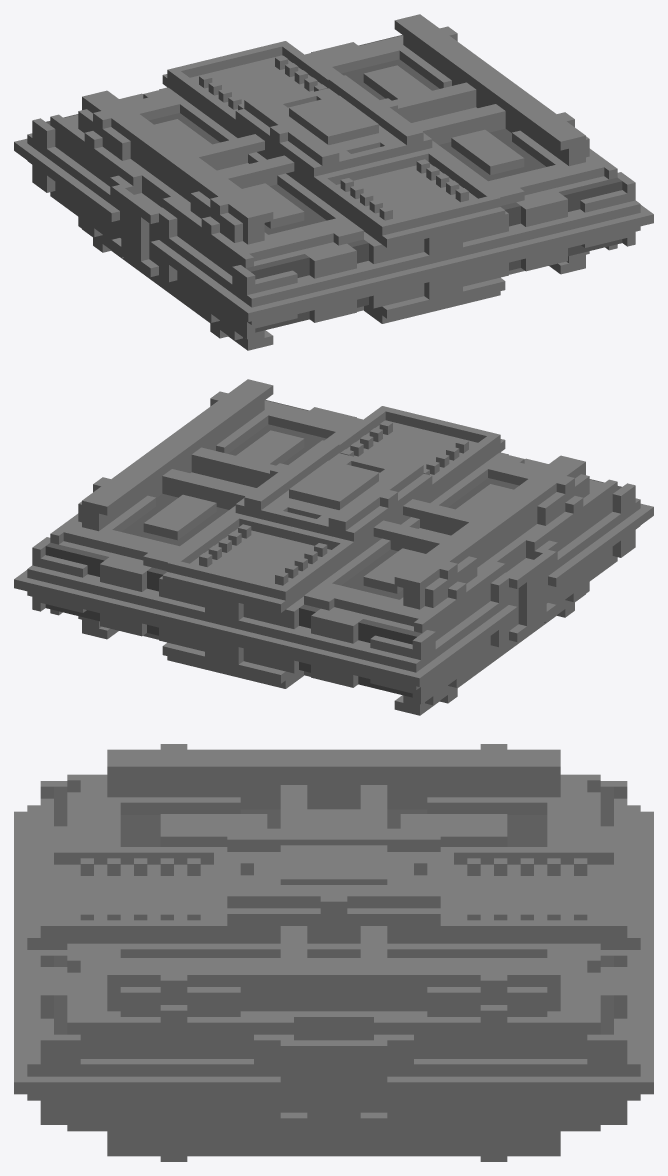
File: alien_saucer3c.obj
3 views of the same model, one above another, from view 1: azimuth 30°, elevation 25°; view 2: azimuth 150°, elevation 25°; view 3: azimuth 270°, elevation 25° (orthographic). The views are drawn at different scales.
Bounding box in the file's own units: 48 × 15 × 48.
